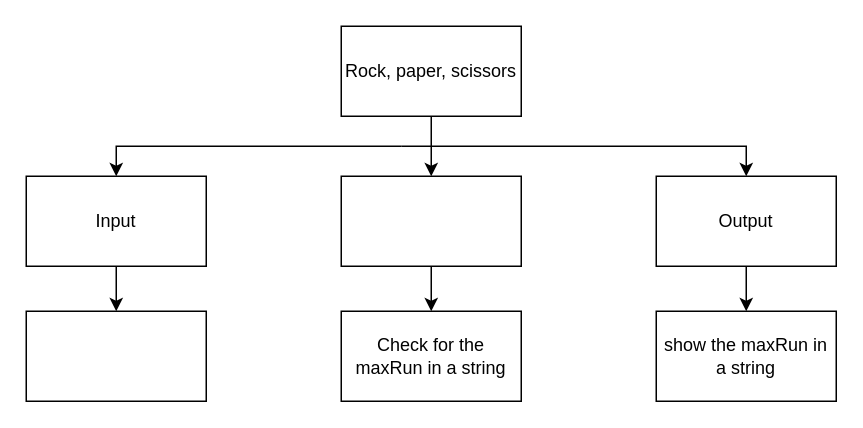
Some shapes in this 863 by 428 pixel diagram are drawn without their labels. The centre of each missing label's shape, as x and y in pixels:
Get userInput: the point at 115,355
Process: the point at 430,220
